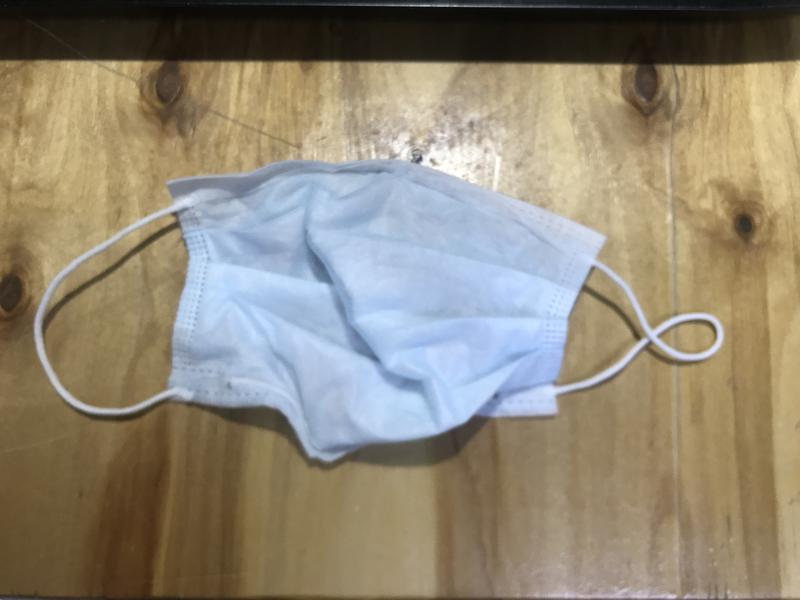medical_mask: (32, 161, 723, 460)
